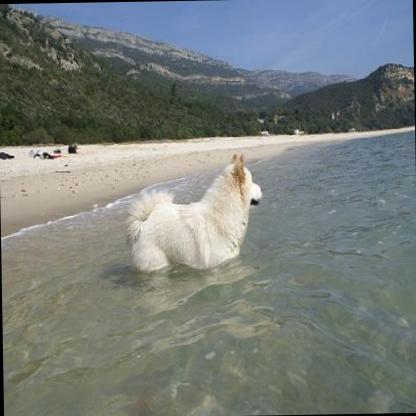Samoyed: (124, 152, 264, 270)
